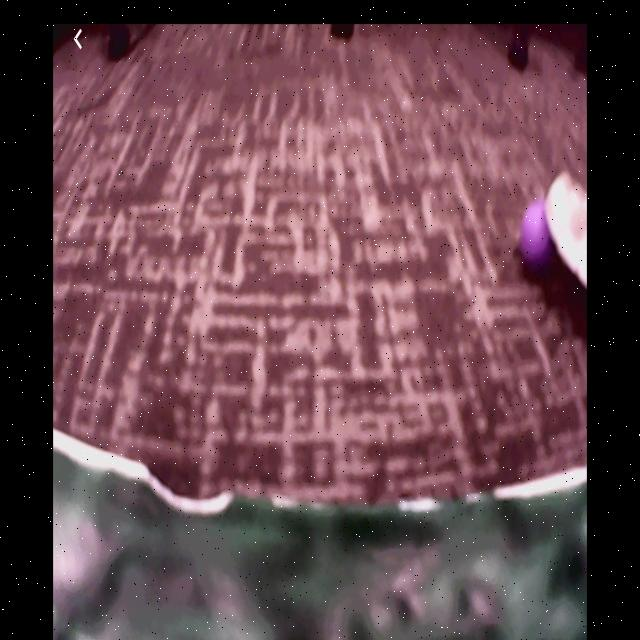ball: (523, 201, 554, 263)
